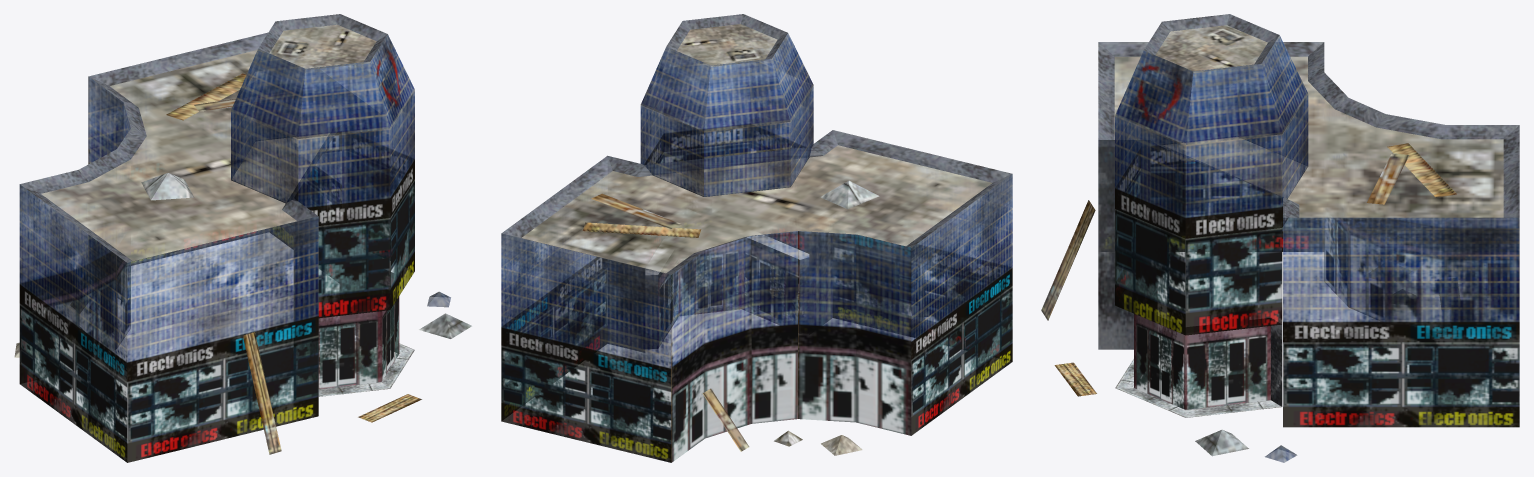
The model's file is Civilian - Commercial Building - Asian Electric Retail - Damaged and Night - CBNElecRtl_DN.glb.
The picture shows the model from 3 angles, left to right: view 1: azimuth 30°, elevation 25°; view 2: azimuth 150°, elevation 25°; view 3: azimuth 270°, elevation 25°; orthographic projection. The views are drawn at different scales.
Parts seen in each view (by area): view 1: CBNELECRTL_DN; view 2: CBNELECRTL_DN; view 3: CBNELECRTL_DN.
Part boxes in pixels (x1,y1,x2,y2): CBNELECRTL_DN: (14, 14, 471, 462); CBNELECRTL_DN: (501, 14, 1012, 462); CBNELECRTL_DN: (1041, 14, 1519, 462).
Bounding box in the file's own units: 65.65 × 49.24 × 62.92.
1 material, 1 textured.
